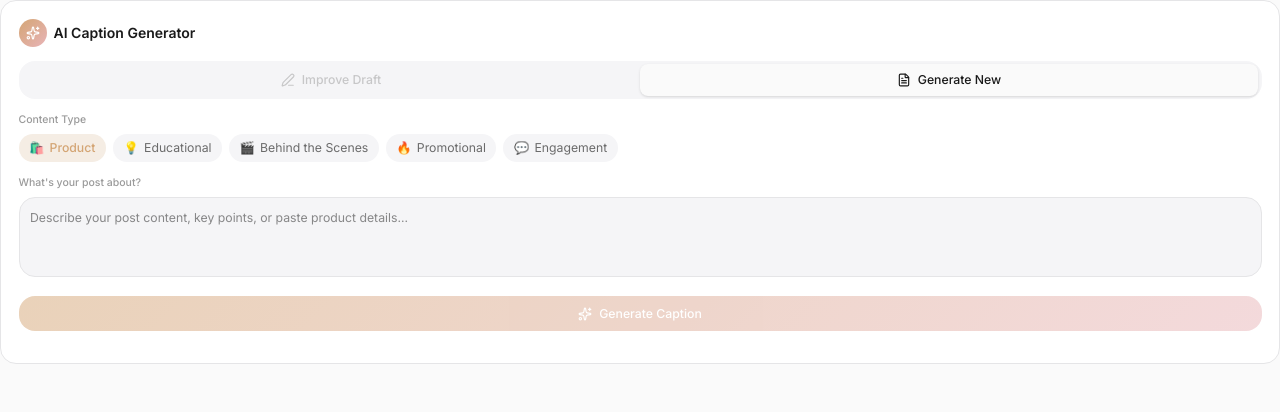
Test case: AICaptionGenerator › validates the generation prompt before making a request
The width and height of the screenshot is (1280, 412).
Replace the text in the text box with "short" at {"x": 640, "y": 237}, box left=18, top=197, right=1262, bottom=277
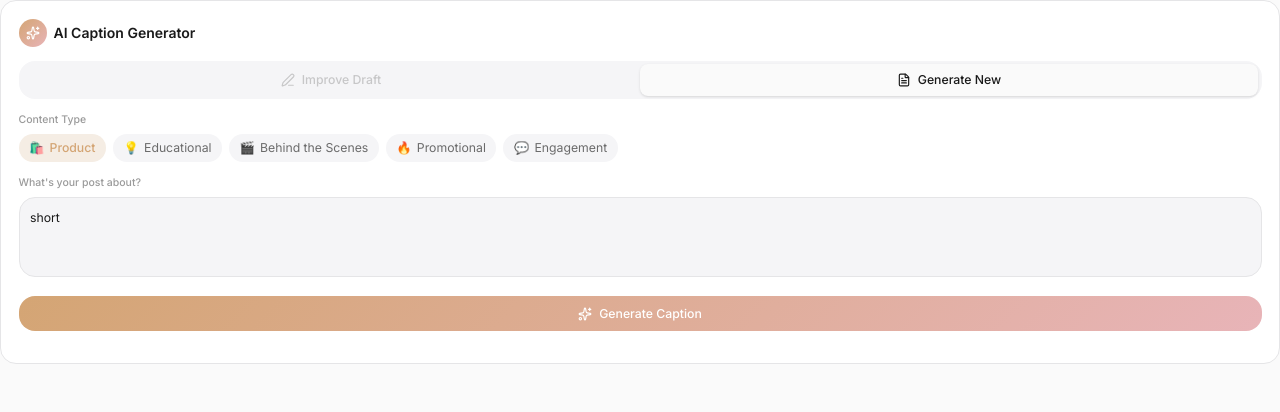
Click the button "Generate Caption" at {"x": 640, "y": 314}, box left=18, top=296, right=1262, bottom=331
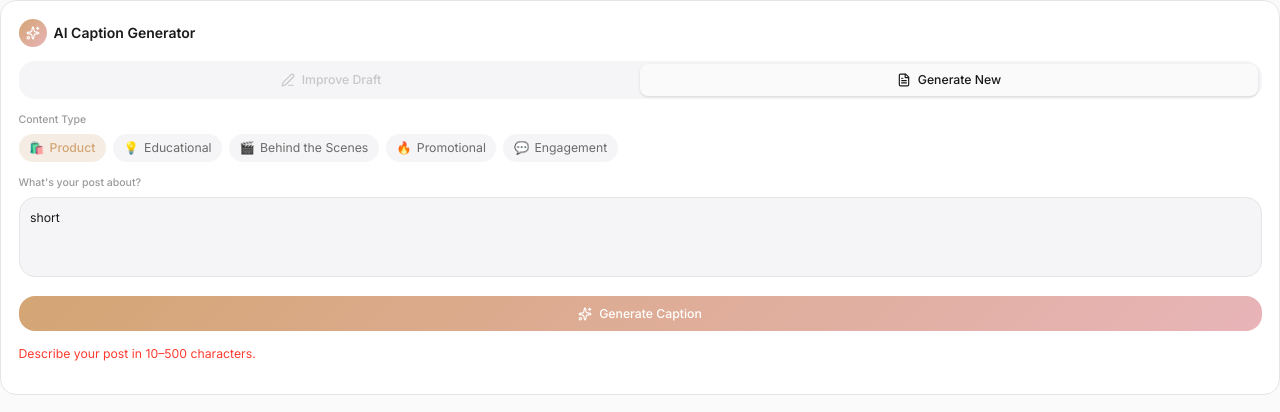
Now the message shows "10–500", box left=18, top=346, right=256, bottom=361
